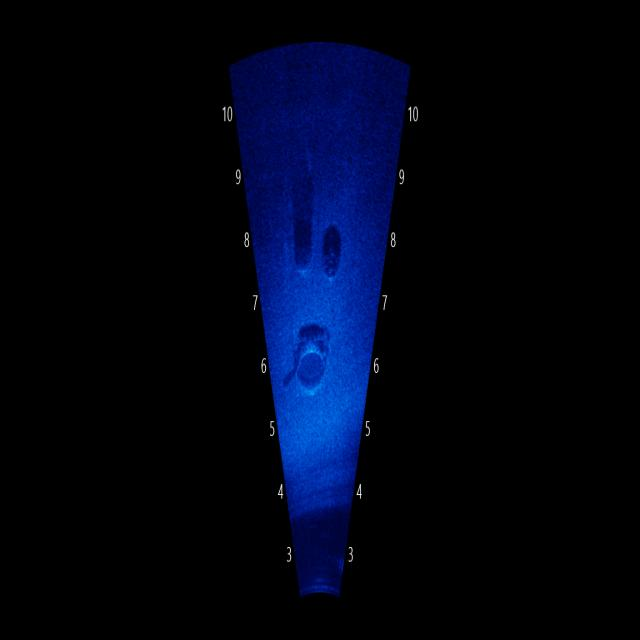circle: (292, 337, 332, 403)
